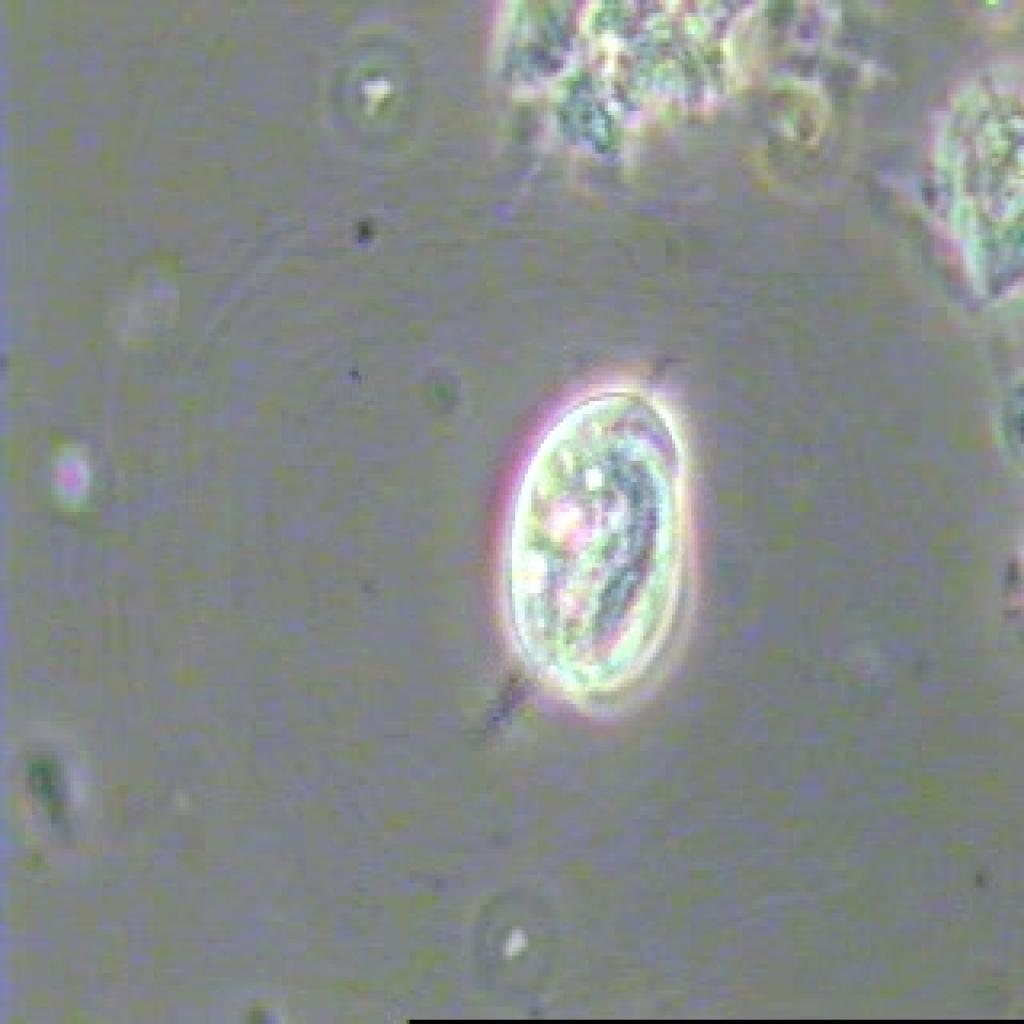Aspidisca: (445, 324, 710, 755)
